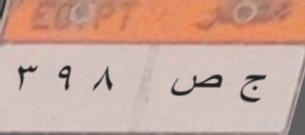3: (11, 60, 42, 98)
8: (89, 61, 126, 100)
9: (52, 63, 79, 98)
jeem: (234, 66, 271, 109)
saad: (166, 70, 225, 105)
